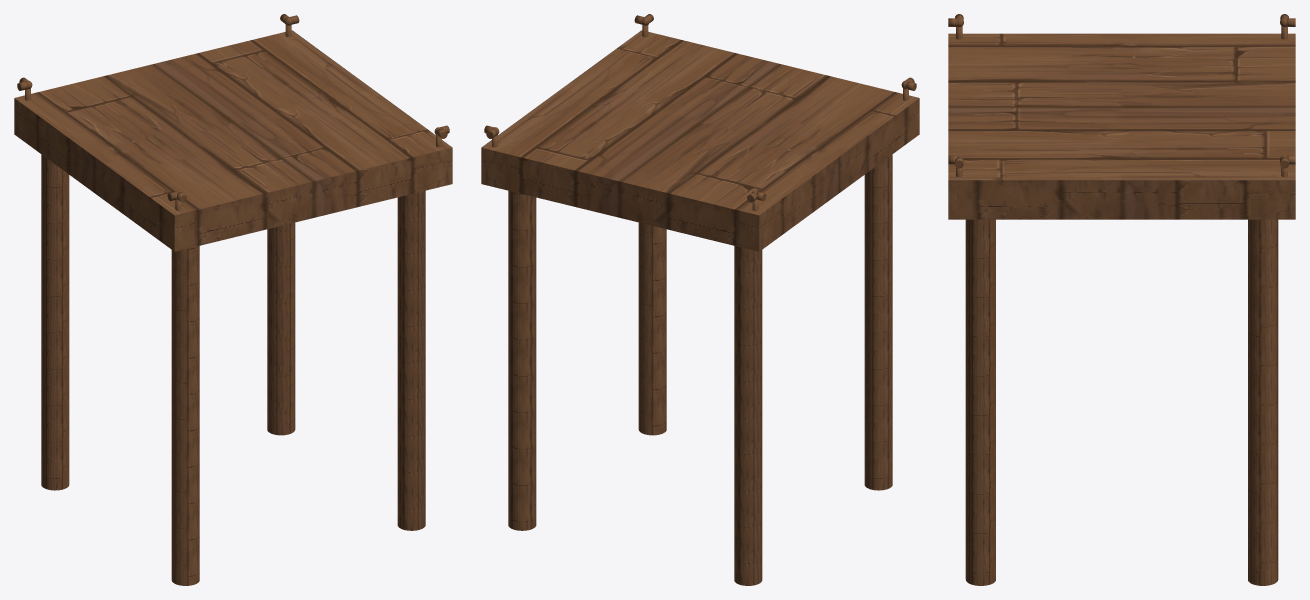
File: Cross16.fbx
3 views of the same model, side by side, from view 1: azimuth 30°, elevation 25°; view 2: azimuth 150°, elevation 25°; view 3: azimuth 270°, elevation 25° (orthographic). The views are drawn at different scales.
Visible parts, largest first — view 1: Ground.002, pillar.000; view 2: Ground.002, pillar.000; view 3: Ground.002, pillar.000.
Part boxes in pixels (box(x1,y1,x2,y2)): Ground.002: box(14, 30, 452, 251); pillar.000: box(17, 14, 449, 585); Ground.002: box(481, 30, 919, 251); pillar.000: box(484, 14, 916, 585); Ground.002: box(948, 33, 1295, 219); pillar.000: box(948, 14, 1295, 585).
Size of the model in its own units: 1600 by 2202 by 1600.
